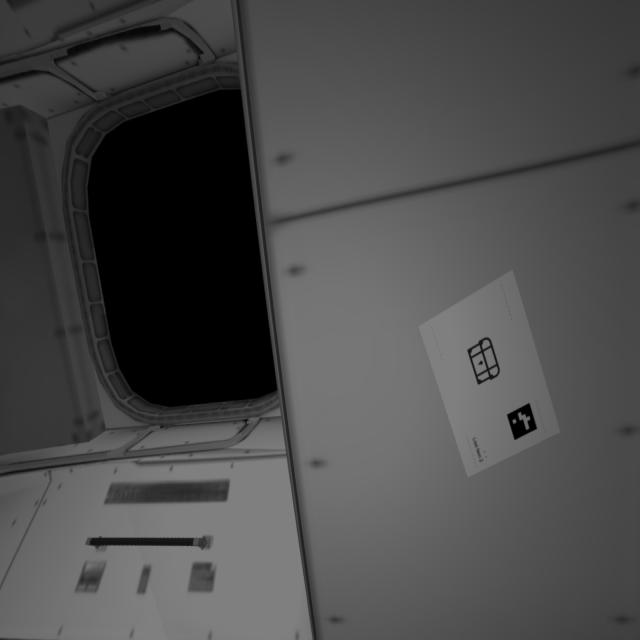treasure_box: (466, 335, 507, 390)
